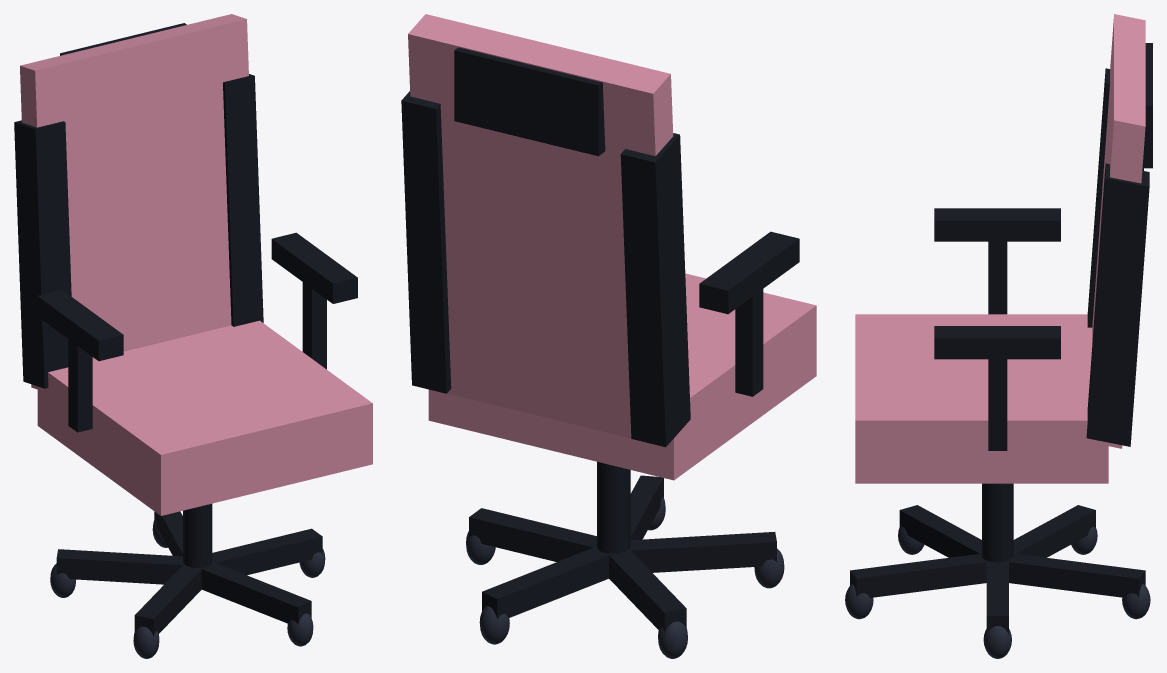
File: gaming-chair.glb
3 renders of one model, left to right at view 1: azimuth 30°, elevation 25°; view 2: azimuth 150°, elevation 25°; view 3: azimuth 270°, elevation 25°, orthographic. The views are drawn at different scales.
Visible parts, largest first — view 1: gaming-chair; view 2: gaming-chair; view 3: gaming-chair.
Boxes of the visible parts, x1,y1,x2,y2 form: gaming-chair: (14,14,372,658); gaming-chair: (401,14,816,658); gaming-chair: (845,14,1152,658).
Size of the model in its own units: 68 by 130 by 68.
